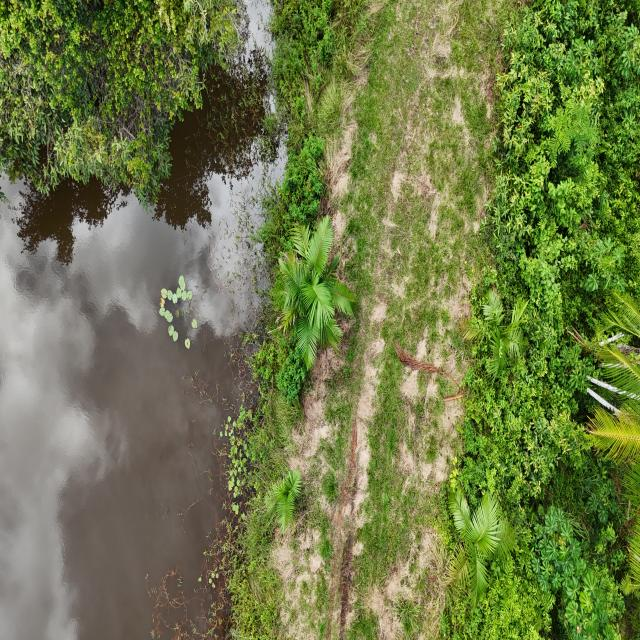vegetation: (440, 1, 639, 638), (270, 214, 357, 372)
